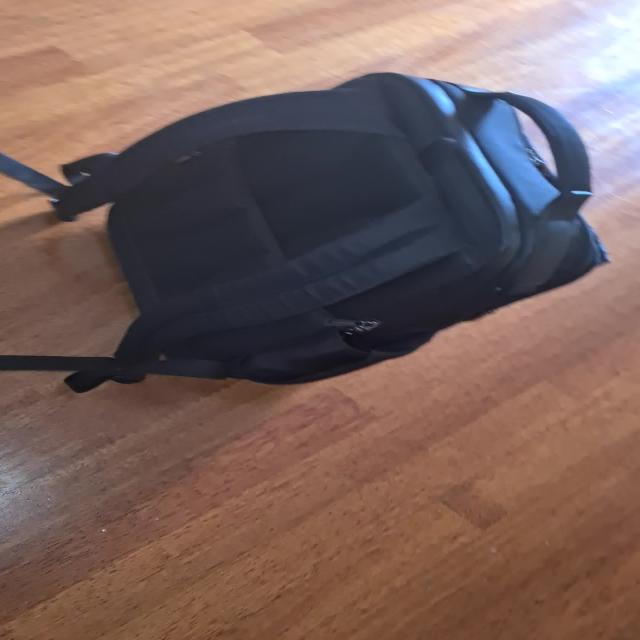backpack: (83, 59, 628, 391)
